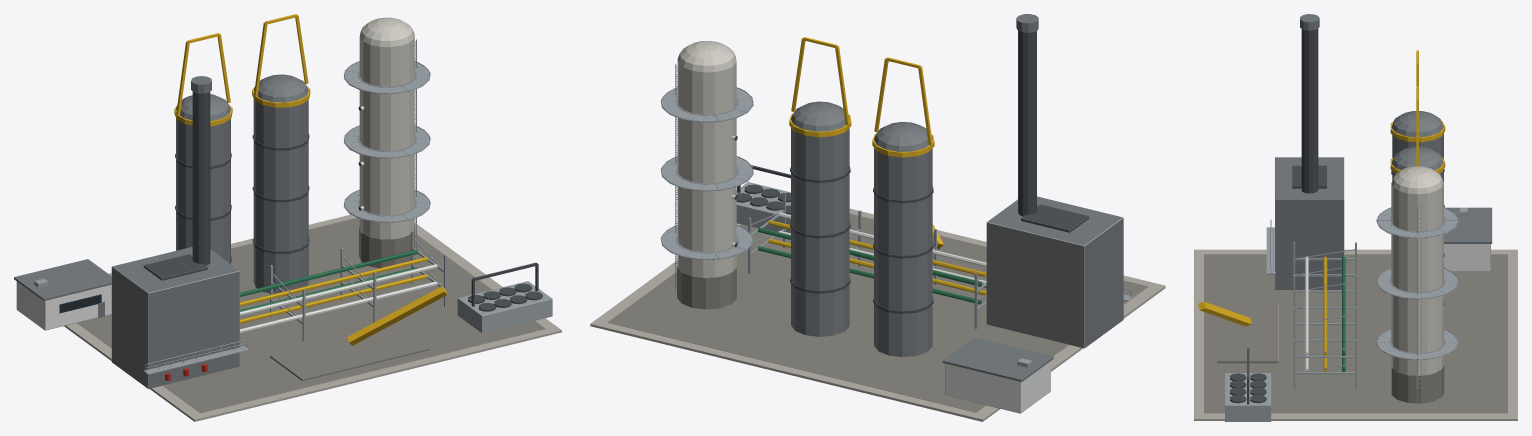
File: ref_coker.glb
3 renders of one model, left to right at view 1: azimuth 30°, elevation 25°; view 2: azimuth 150°, elevation 25°; view 3: azimuth 270°, elevation 25°, orthographic. The views are drawn at different scales.
Parts seen in each view (by area): view 1: ref_coker; view 2: ref_coker; view 3: ref_coker.
Part boxes in pixels (x1,y1,x2,y2): ref_coker: [14, 14, 561, 421]; ref_coker: [590, 14, 1165, 421]; ref_coker: [1194, 14, 1517, 421].
Bounding box in the file's own units: 56.25 × 37.9 × 42.
